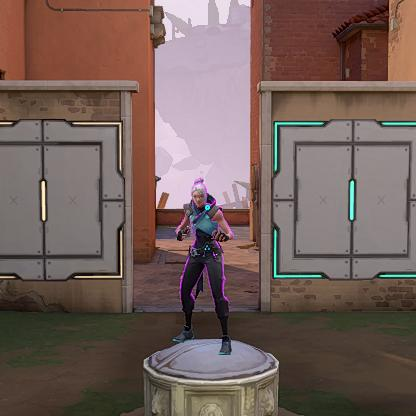enemyBody: (182, 218, 229, 273)
enemyHead: (187, 189, 214, 207)
